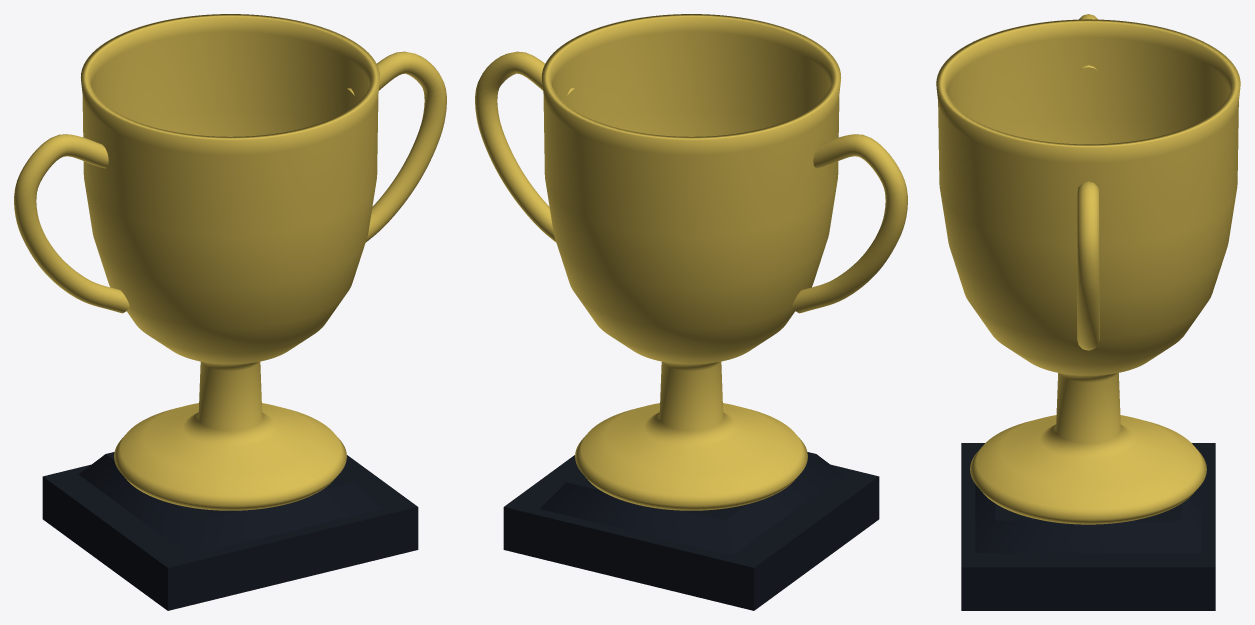
File: psobr-trophy.glb
The picture shows the model from 3 angles, left to right: view 1: azimuth 30°, elevation 25°; view 2: azimuth 150°, elevation 25°; view 3: azimuth 270°, elevation 25°; orthographic projection.
Visible parts, largest first — view 1: Golden_Cup, Trophy_Base, Base_Bevel, Handle_Left, Handle_Right; view 2: Golden_Cup, Trophy_Base, Base_Bevel, Handle_Left, Handle_Right; view 3: Golden_Cup, Trophy_Base, Base_Bevel, Handle_Right.
Part boxes in pixels (x1,y1,x2,y2): Golden_Cup: [80, 14, 380, 510]; Trophy_Base: [42, 455, 418, 610]; Base_Bevel: [79, 452, 381, 555]; Handle_Left: [14, 134, 129, 313]; Handle_Right: [347, 51, 446, 242]; Golden_Cup: [541, 14, 841, 510]; Trophy_Base: [503, 455, 879, 610]; Base_Bevel: [540, 452, 842, 555]; Handle_Left: [792, 134, 907, 313]; Handle_Right: [475, 51, 574, 242]; Golden_Cup: [936, 19, 1240, 524]; Trophy_Base: [961, 443, 1215, 610]; Base_Bevel: [975, 484, 1201, 552]; Handle_Right: [1077, 181, 1099, 350].
Bounding box in the file's own units: 1.15 × 1.17 × 0.694.
